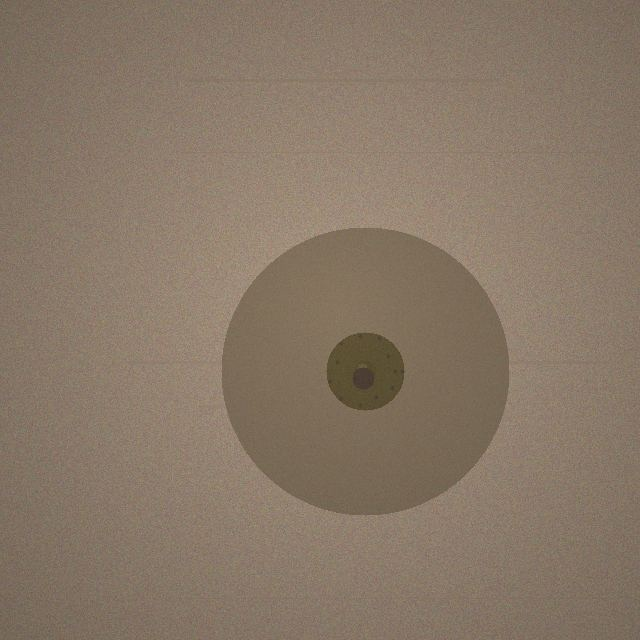cold_weld: (221, 227, 509, 515)
